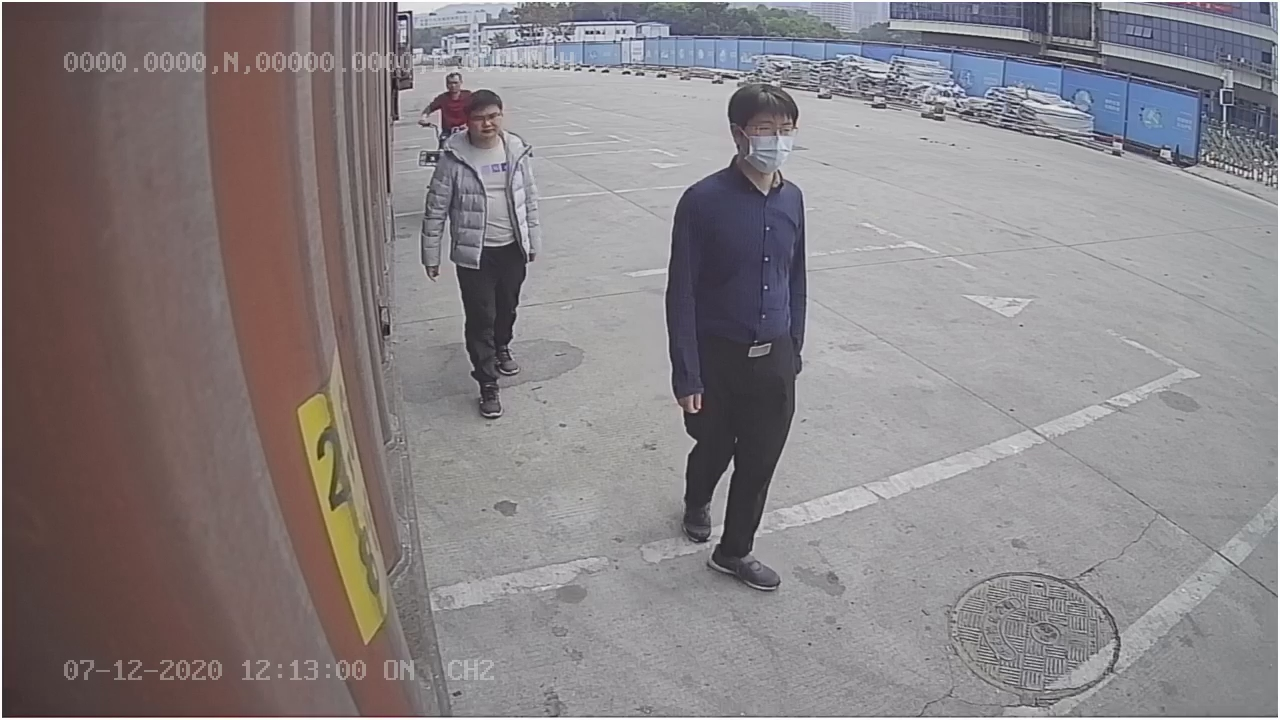person: (661, 83, 806, 593)
